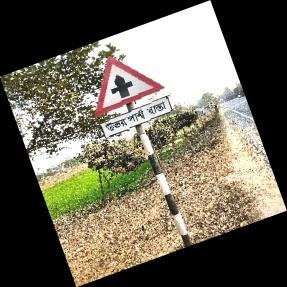Crossroad: (93, 55, 172, 140)
